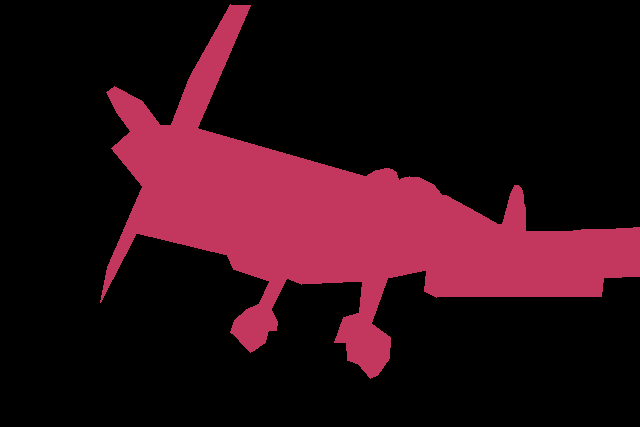Airplane: (100, 4, 640, 379)
